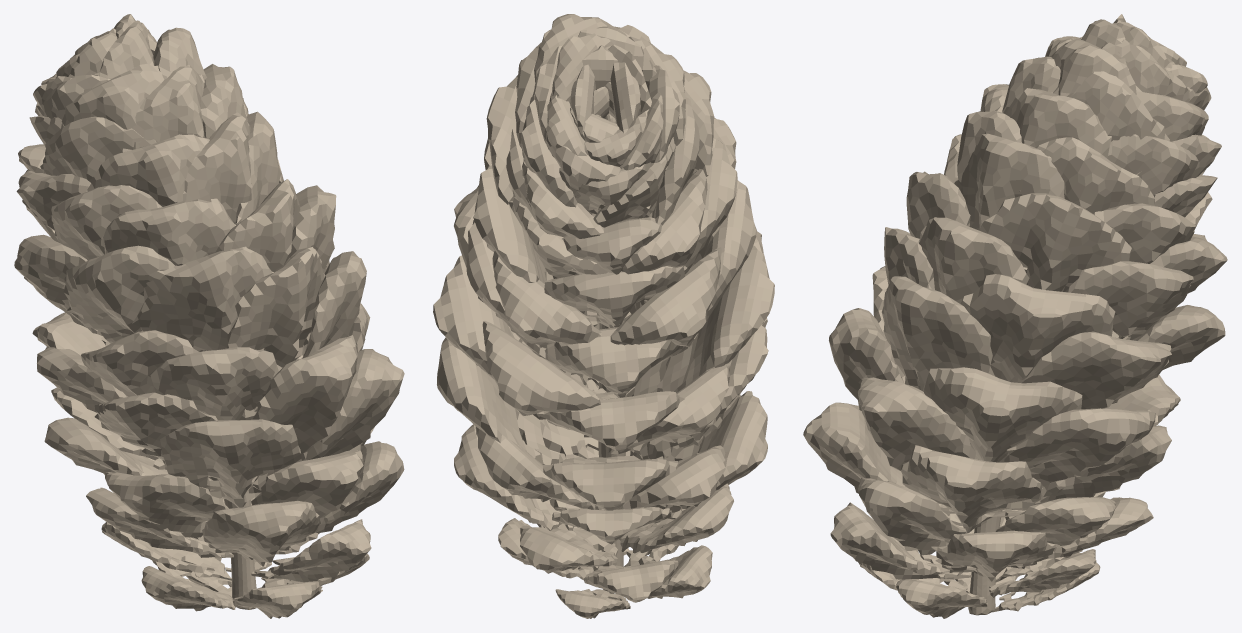
File: 3dcodebench_Pinecone_seed0.glb
The picture shows the model from 3 angles, left to right: view 1: azimuth 30°, elevation 25°; view 2: azimuth 150°, elevation 25°; view 3: azimuth 270°, elevation 25°; orthographic projection. The views are drawn at different scales.
Parts seen in each view (by area): view 1: object; view 2: object; view 3: object.
Boxes of the visible parts, left/top/right/bottom form: object: left=14, top=14, right=404, bottom=618; object: left=433, top=14, right=774, bottom=618; object: left=803, top=14, right=1227, bottom=618.
Size of the model in its own units: 0.3026 by 0.5728 by 0.3894.
